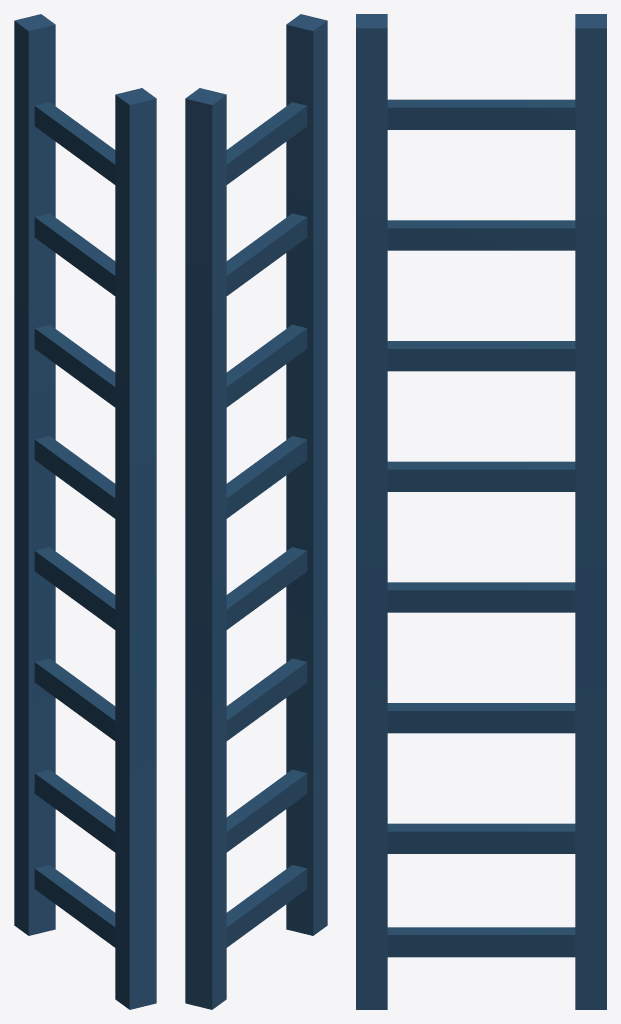
Rendered from FireEscape_D_3.glb.
3 renders of one model, left to right at view 1: azimuth 30°, elevation 25°; view 2: azimuth 150°, elevation 25°; view 3: azimuth 270°, elevation 25°, orthographic. The views are drawn at different scales.
Visible parts, largest first — view 1: FireEscape_D_3; view 2: FireEscape_D_3; view 3: FireEscape_D_3.
Part boxes in pixels (x1,y1,x2,y2): FireEscape_D_3: [14, 14, 156, 1009]; FireEscape_D_3: [185, 14, 327, 1009]; FireEscape_D_3: [356, 14, 606, 1009].
Size of the model in its own units: 0.0926 by 2.96 by 0.6863.
Materials: 1 (1 with a texture image).
